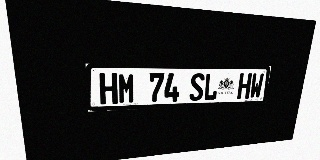4: (164, 73, 180, 102)
7: (148, 73, 164, 103)
H: (99, 73, 118, 105), (237, 73, 252, 99)
L: (203, 73, 219, 100)
M: (118, 73, 135, 104)
S: (189, 73, 205, 101)
W: (249, 73, 264, 99)
